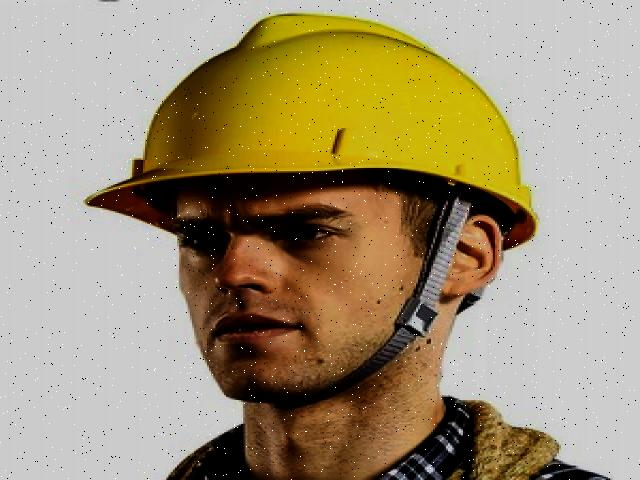Helmet: (71, 6, 545, 257)
